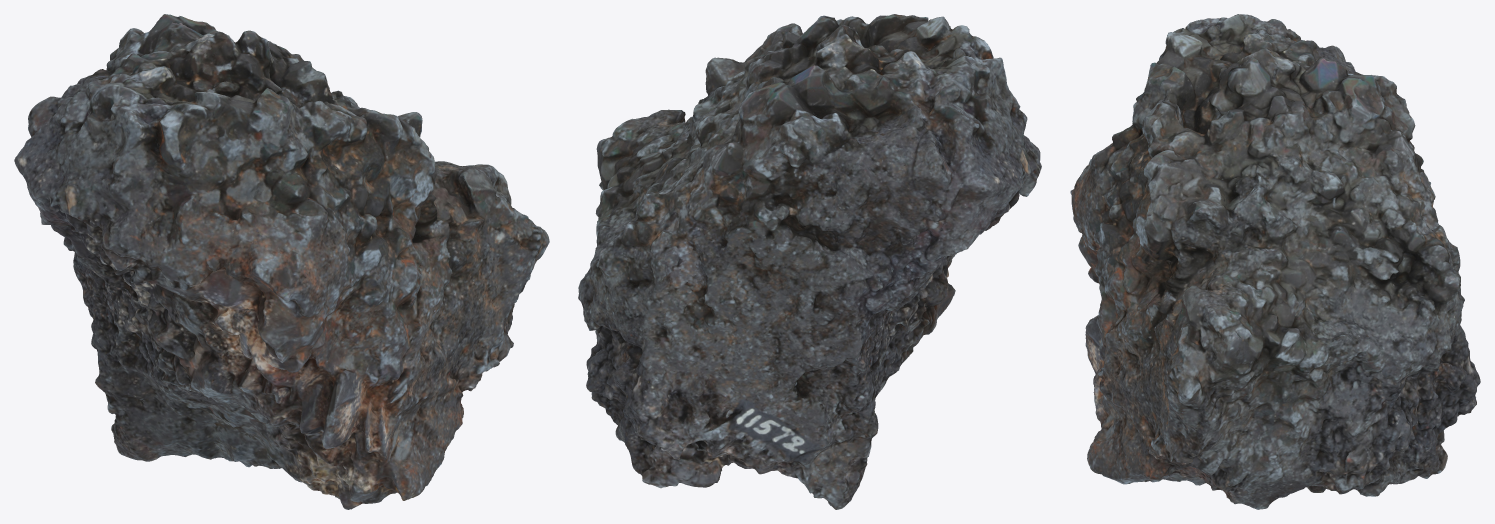
File: hematite.glb
3 renders of one model, left to right at view 1: azimuth 30°, elevation 25°; view 2: azimuth 150°, elevation 25°; view 3: azimuth 270°, elevation 25°, orthographic. The views are drawn at different scales.
Visible parts, largest first — view 1: Object_2, Object_3, Object_4; view 2: Object_2, Object_3, Object_4; view 3: Object_3, Object_2, Object_4.
Part boxes in pixels (bbox=[...]): Object_2: bbox=[14, 14, 549, 509]; Object_3: bbox=[32, 14, 488, 486]; Object_4: bbox=[173, 30, 458, 350]; Object_2: bbox=[578, 28, 1041, 509]; Object_3: bbox=[580, 14, 1040, 493]; Object_4: bbox=[578, 15, 928, 483]; Object_3: bbox=[1070, 15, 1480, 492]; Object_2: bbox=[1075, 14, 1470, 509]; Object_4: bbox=[1073, 47, 1478, 496].
Bounding box in the file's own units: 0.2574 × 0.2355 × 0.2164.
1 material, 1 textured.
